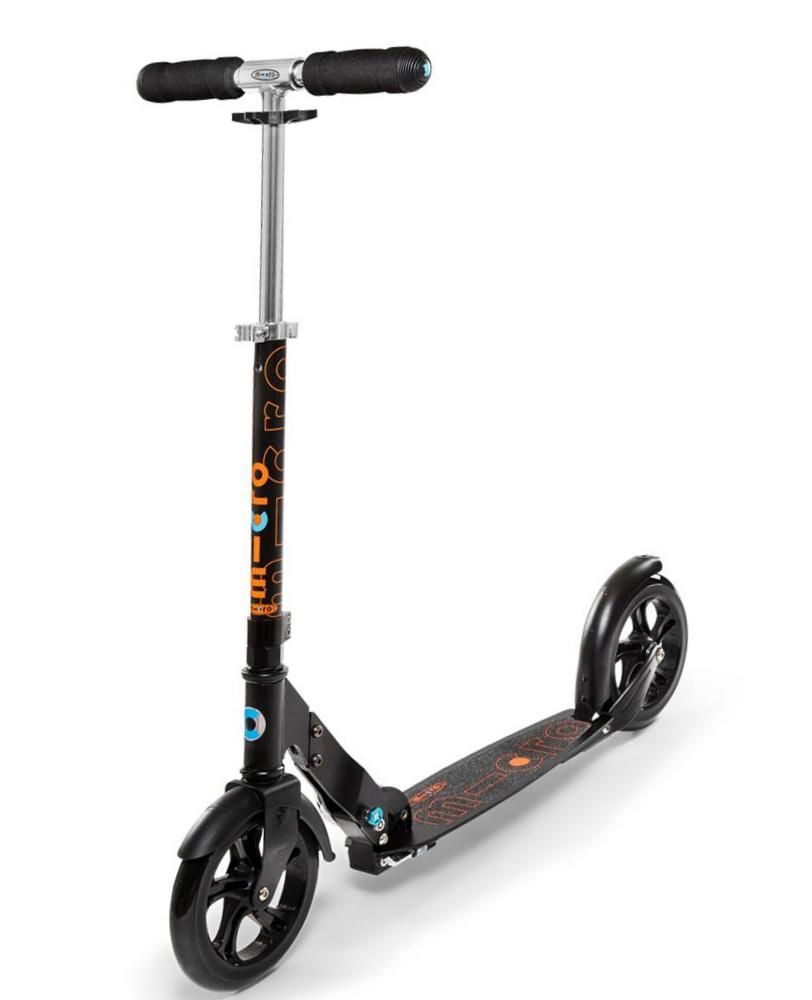scooter: (135, 46, 690, 993)
